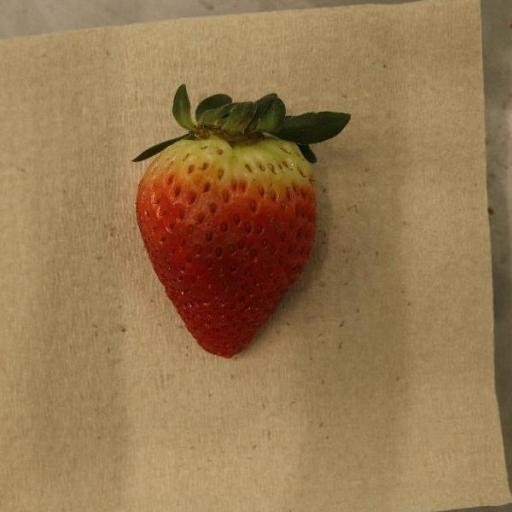Strawberry: (132, 85, 353, 359)
